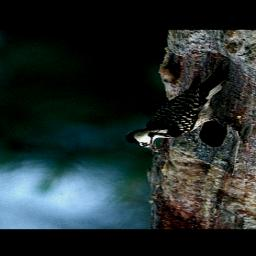Woodpecker: (124, 61, 229, 154)
